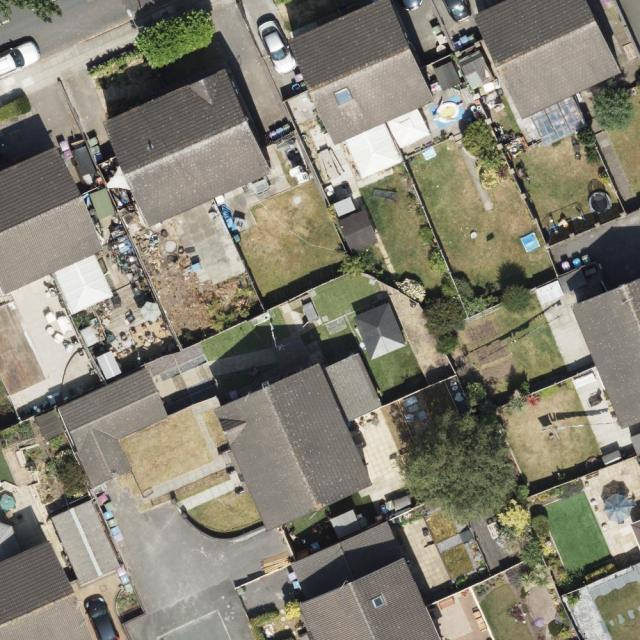roof: (214, 351, 383, 531), (288, 0, 437, 180), (104, 69, 270, 230), (474, 0, 621, 145), (0, 142, 115, 318), (289, 523, 441, 640), (33, 368, 169, 489), (0, 519, 94, 640), (573, 279, 640, 428), (53, 498, 123, 585)
skylight: (531, 94, 586, 148), (332, 84, 354, 106), (370, 592, 388, 613)
